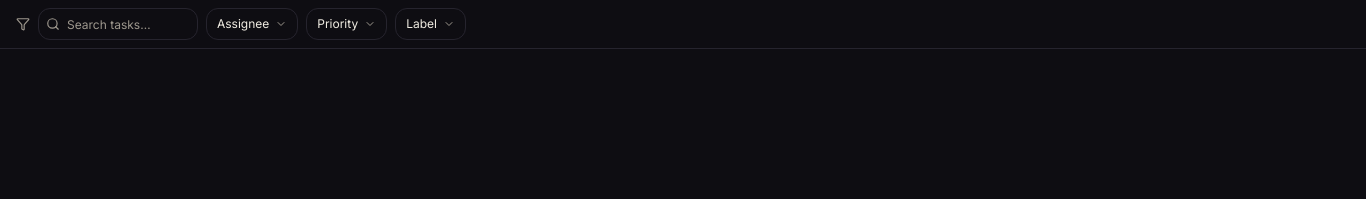
Test: FilterBar › opens priority dropdown and shows options
Click the button "Priority": (347, 24) [306,8,387,40]
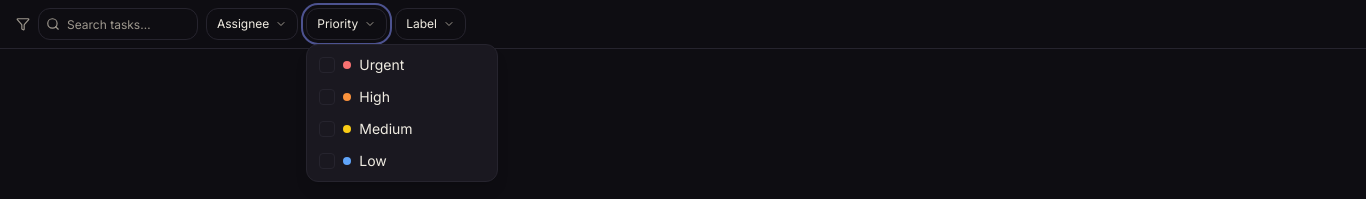
Now the text "Urgent" is shown, box [359,55,404,75]
Now the text "High" is shown, box [359,87,390,107]
Now the text "Medium" is shown, box [359,119,413,139]
